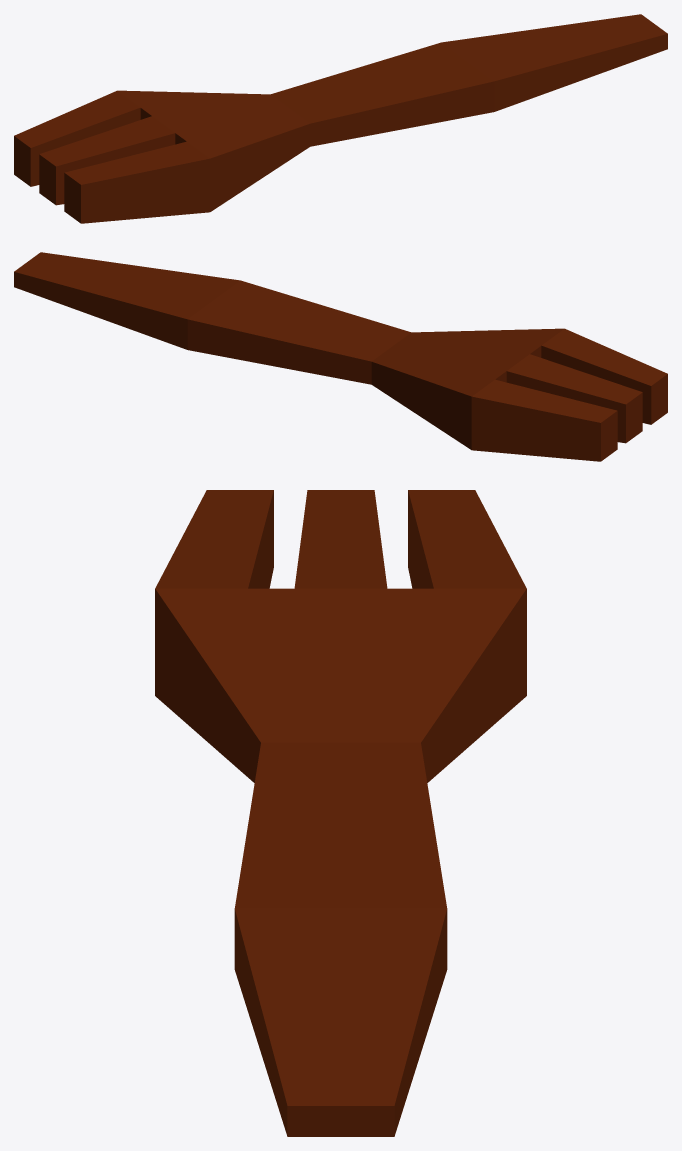
The model's file is SM_CATAL.fbx.
The picture shows the model from 3 angles, top to bottom: view 1: azimuth 30°, elevation 25°; view 2: azimuth 150°, elevation 25°; view 3: azimuth 270°, elevation 25°; orthographic projection. The views are drawn at different scales.
Visible parts, largest first — view 1: Cube; view 2: Cube; view 3: Cube.
Boxes of the visible parts, x1=… form: Cube: x1=14, y1=14, x2=667, y2=223; Cube: x1=14, y1=252, x2=667, y2=461; Cube: x1=155, y1=490, x2=526, y2=1136.
Size of the model in its own units: 87.38 by 7.39 by 23.17.
